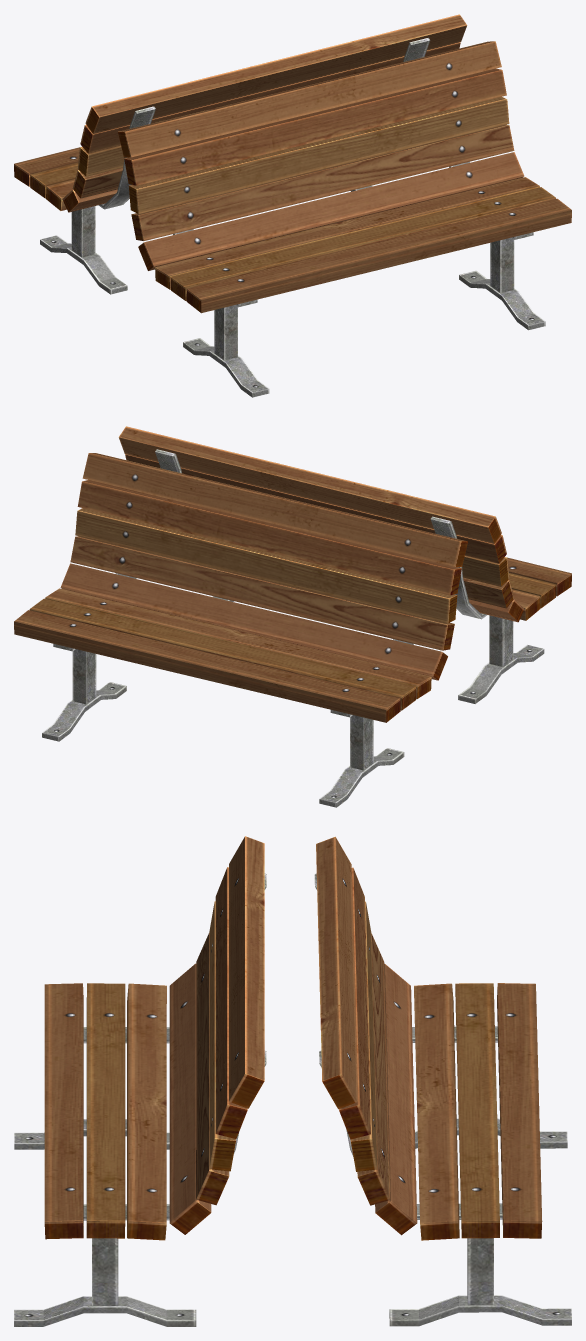
File: obs_bench.fbx
3 views of the same model, one above another, from view 1: azimuth 30°, elevation 25°; view 2: azimuth 150°, elevation 25°; view 3: azimuth 270°, elevation 25° (orthographic). The views are drawn at different scales.
Visible parts, largest first — view 1: obs_bench; view 2: obs_bench; view 3: obs_bench.
Part boxes in pixels (x1,y1,x2,y2): obs_bench: (14, 14, 571, 397); obs_bench: (14, 426, 571, 807); obs_bench: (14, 836, 571, 1326).
Bounding box in the file's own units: 177 × 96.07 × 175.
